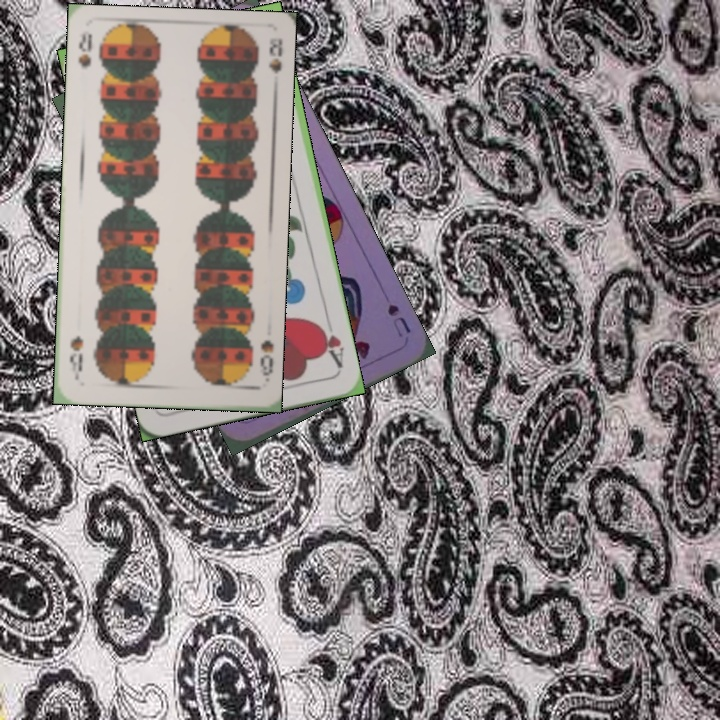HA: (314, 320, 346, 371)
S8: (256, 335, 275, 385), (74, 29, 95, 70)
SU: (383, 300, 413, 340)
